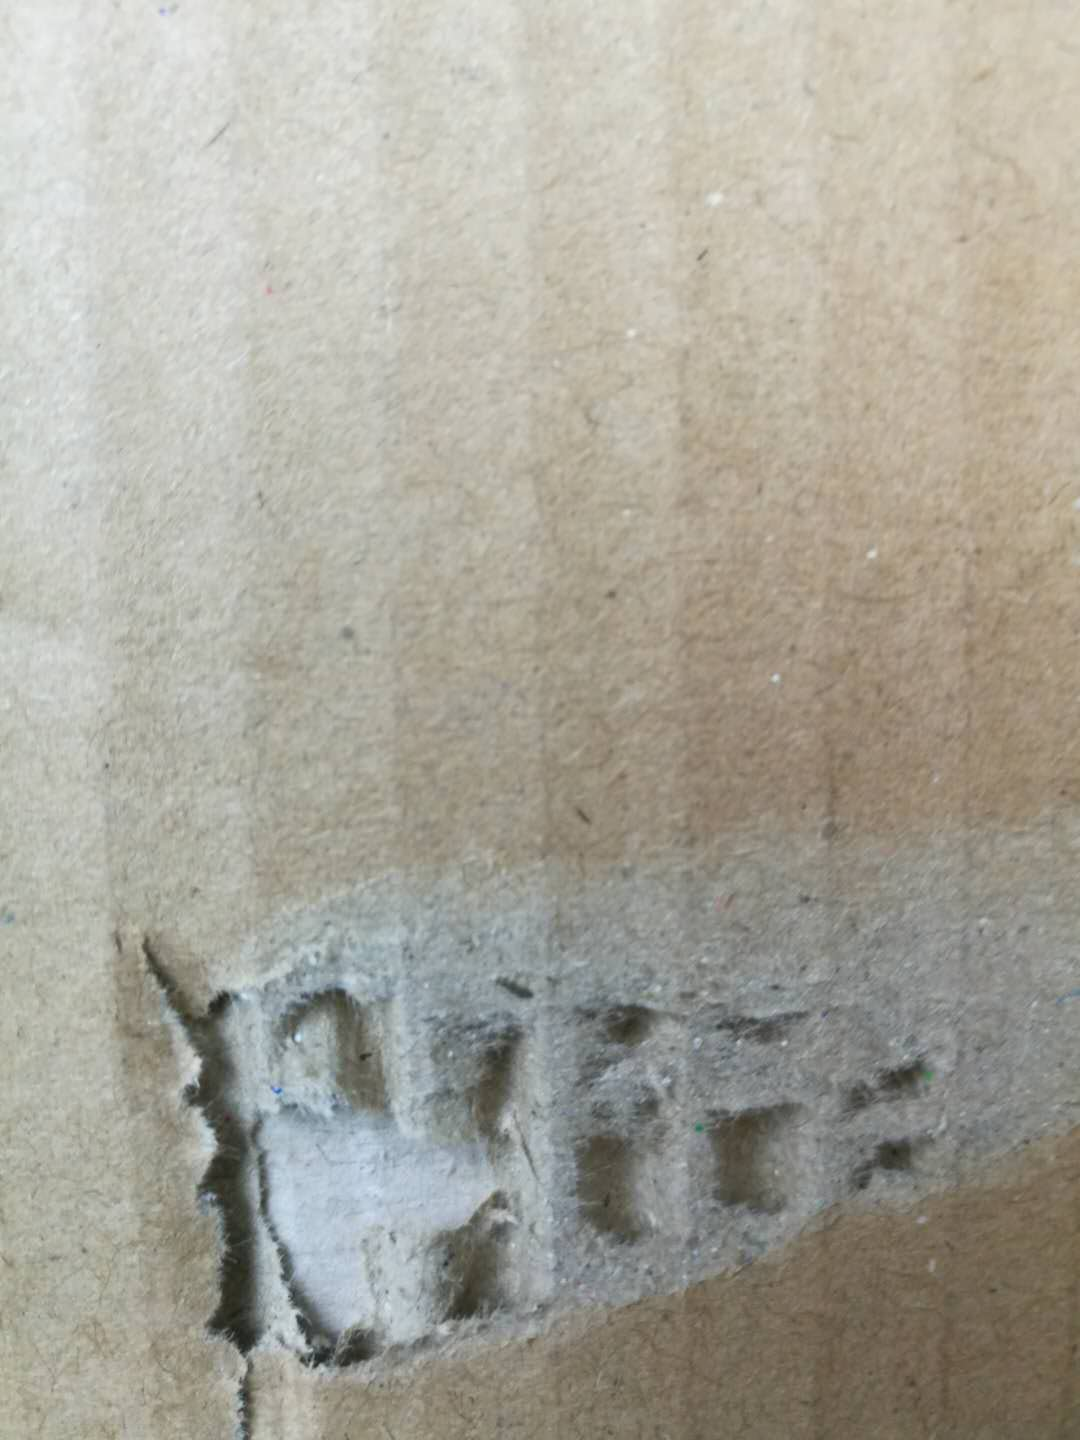defect: (37, 776, 1079, 1440)
